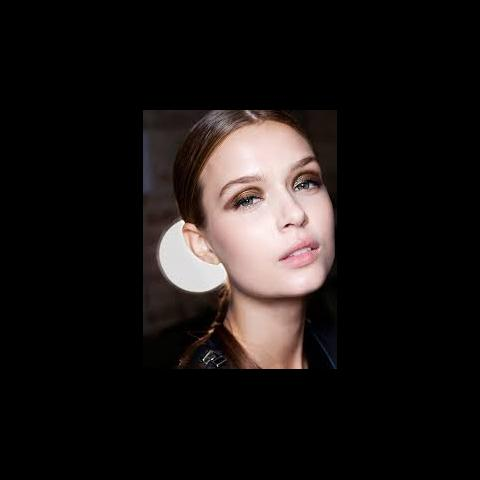opened: (221, 168, 326, 214)
